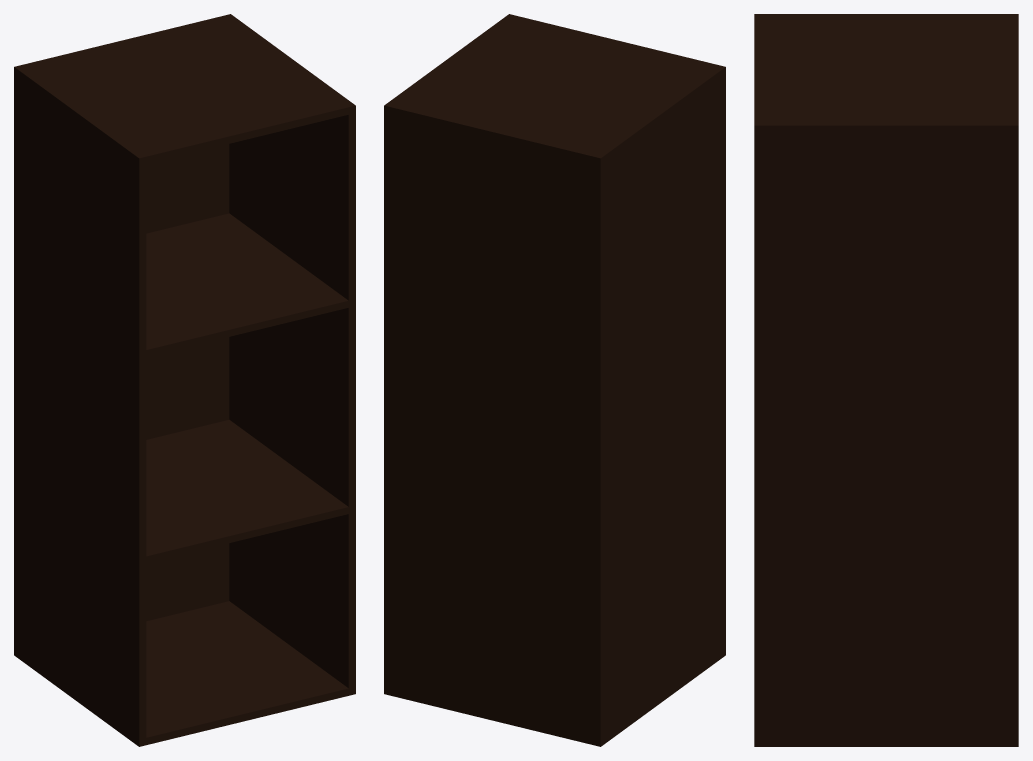
Rendered from stillazh1.glb.
The picture shows the model from 3 angles, left to right: view 1: azimuth 30°, elevation 25°; view 2: azimuth 150°, elevation 25°; view 3: azimuth 270°, elevation 25°; orthographic projection. The views are drawn at different scales.
Parts seen in each view (by area): view 1: Cube.001; view 2: Cube.001; view 3: Cube.001.
Part boxes in pixels (x1,y1,x2,y2): Cube.001: (14,14,355,746); Cube.001: (384,14,725,746); Cube.001: (754,14,1018,746).
Size of the model in its own units: 0.47 by 1.22 by 0.47.
